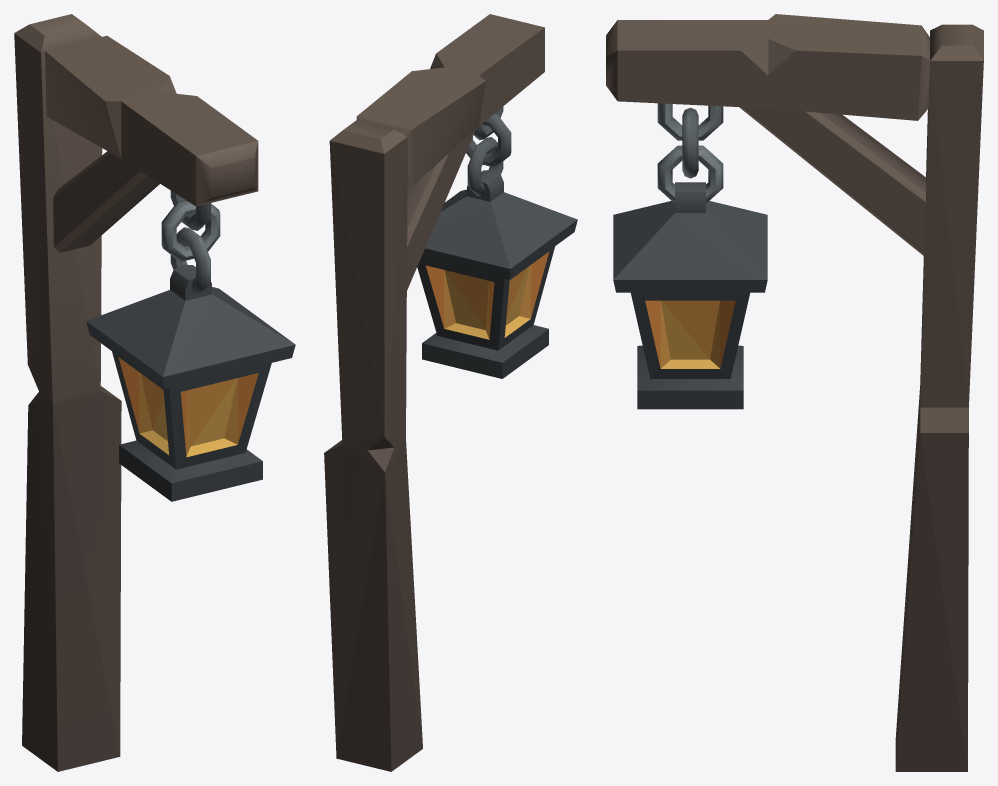
The model's file is lamp.glb.
3 renders of one model, left to right at view 1: azimuth 30°, elevation 25°; view 2: azimuth 150°, elevation 25°; view 3: azimuth 270°, elevation 25°, orthographic. The views are drawn at different scales.
Visible parts, largest first — view 1: lamp; view 2: lamp; view 3: lamp.
Boxes of the visible parts, box(x1,y1,x2,y2) form: lamp: box(14, 14, 295, 771); lamp: box(324, 14, 577, 771); lamp: box(606, 14, 983, 771).
Bounding box in the file's own units: 0.1939 × 1 × 0.4747.
